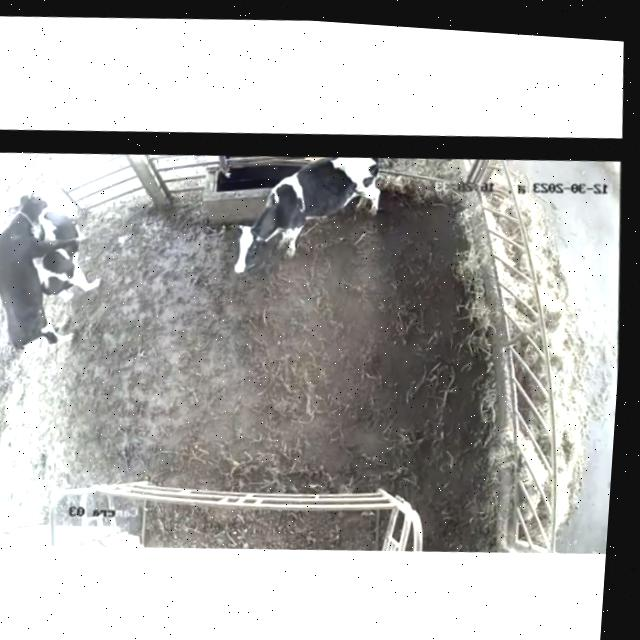ride: (0, 181, 93, 370)
stand: (221, 146, 401, 296), (35, 198, 115, 304)
